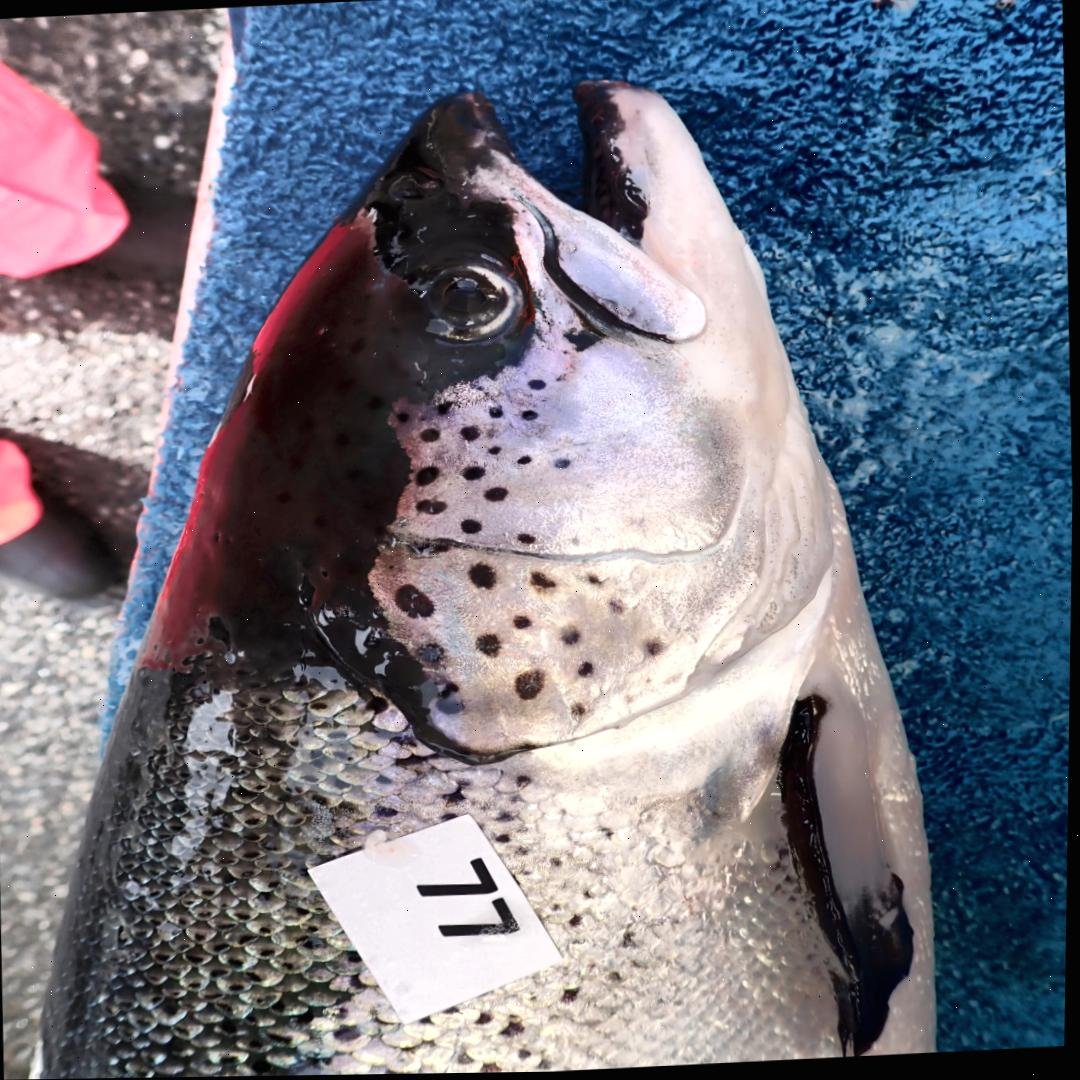spot: (397, 586, 436, 619), (436, 683, 465, 717), (514, 671, 545, 702), (563, 330, 600, 354), (469, 564, 498, 591), (475, 635, 502, 658), (531, 573, 558, 595), (408, 545, 450, 559), (418, 644, 445, 663), (415, 468, 439, 488), (416, 501, 445, 516), (483, 488, 510, 503), (644, 640, 666, 657), (560, 627, 581, 644), (460, 521, 483, 535), (463, 468, 486, 482), (420, 430, 441, 444), (577, 662, 594, 679), (461, 426, 479, 442), (514, 617, 532, 631), (608, 602, 626, 615), (517, 534, 537, 545), (520, 411, 538, 422), (528, 380, 546, 391), (437, 403, 451, 416), (571, 705, 586, 717), (554, 460, 570, 470), (489, 409, 503, 420), (517, 456, 532, 466), (587, 577, 603, 586), (397, 412, 409, 423), (488, 447, 501, 456)
